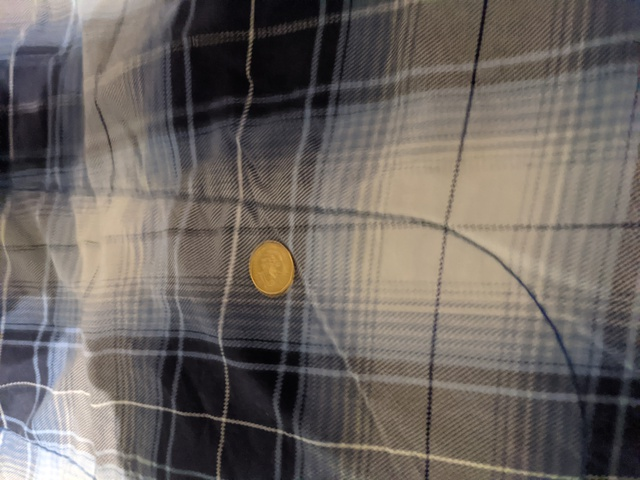loonie: (239, 246, 314, 296)
